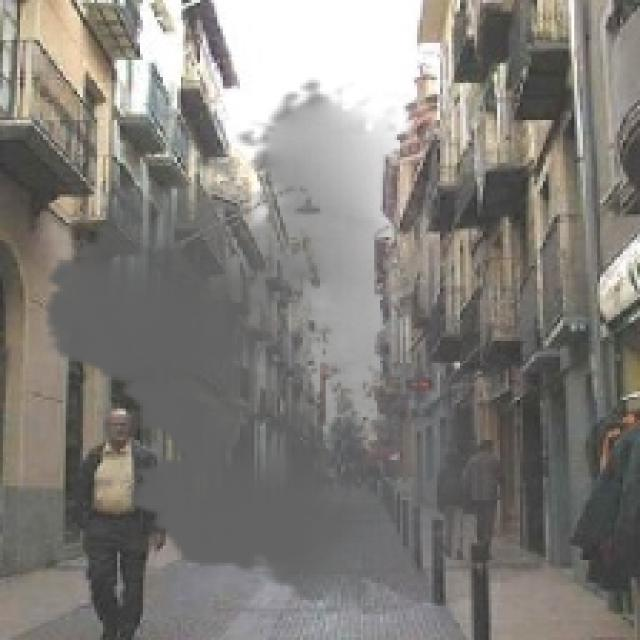smoke: (26, 77, 568, 614)
